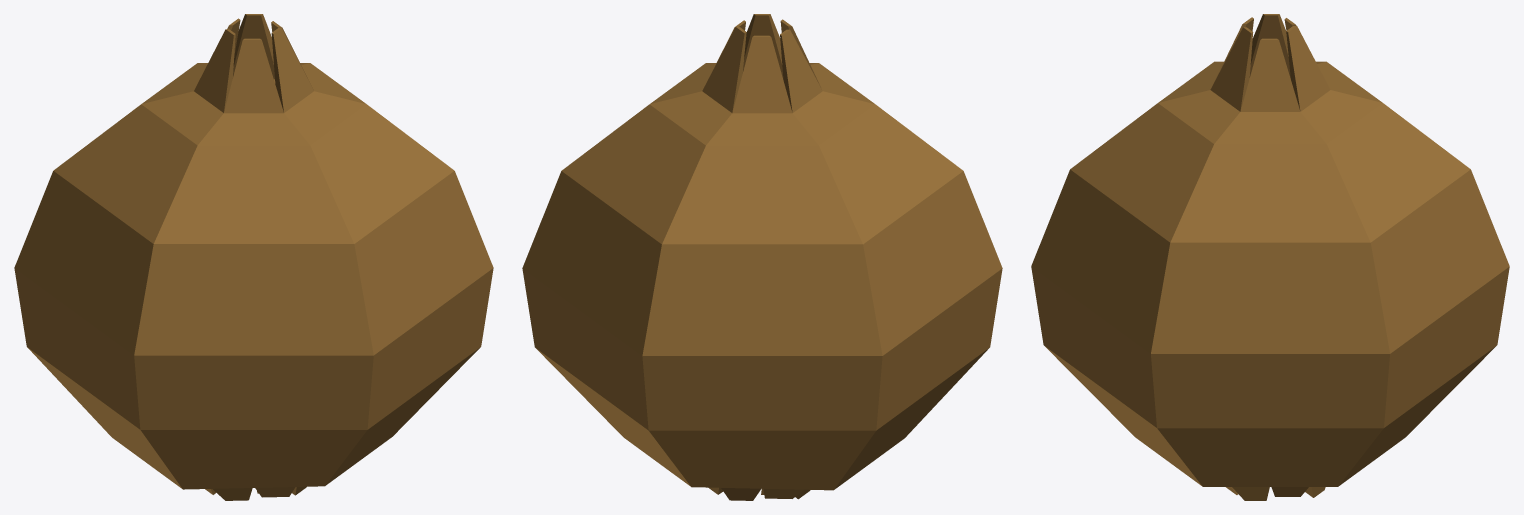
The model's file is Onion.fbx.
3 views of the same model, side by side, from view 1: azimuth 30°, elevation 25°; view 2: azimuth 150°, elevation 25°; view 3: azimuth 270°, elevation 25° (orthographic).
Parts seen in each view (by area): view 1: Cylinder; view 2: Cylinder; view 3: Cylinder.
Boxes of the visible parts, x1=… form: Cylinder: x1=14, y1=14, x2=493, y2=500; Cylinder: x1=522, y1=14, x2=1002, y2=500; Cylinder: x1=1031, y1=14, x2=1509, y2=500.
Size of the model in its own units: 337 by 406 by 389.
